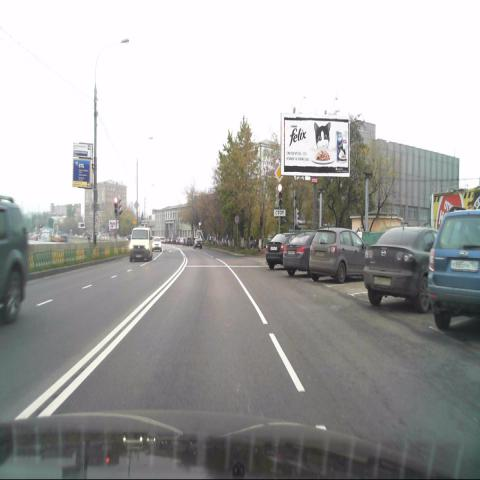2_1: (274, 165, 284, 181)
